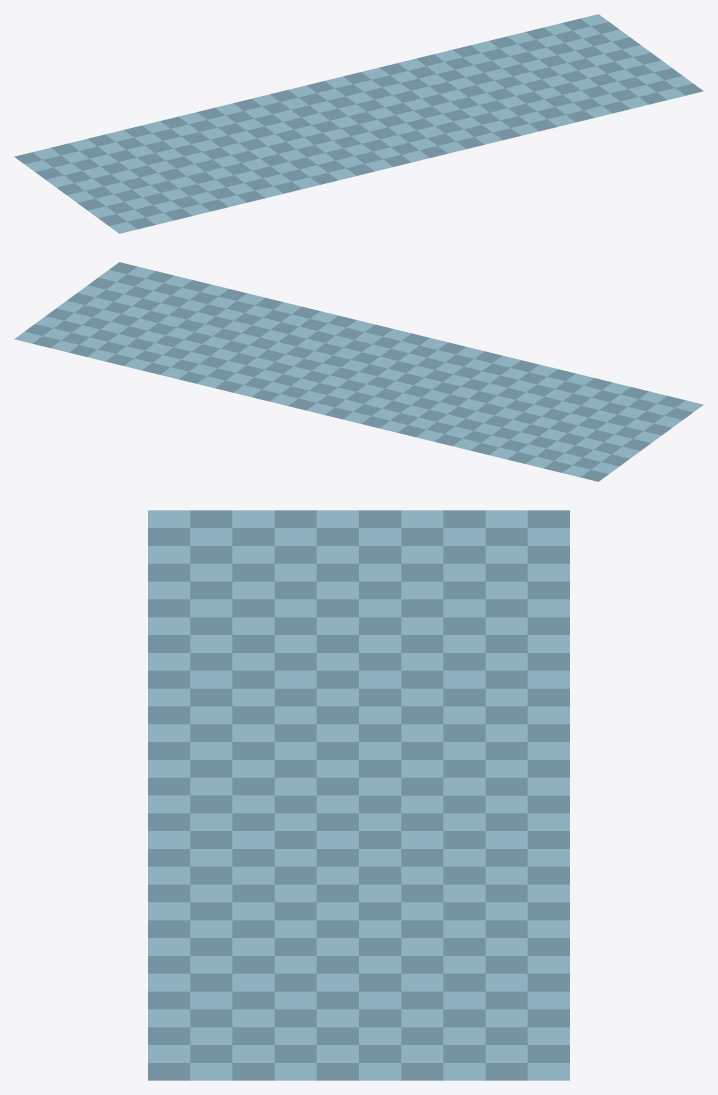
File: floor.fbx
3 views of the same model, one above another, from view 1: azimuth 30°, elevation 25°; view 2: azimuth 150°, elevation 25°; view 3: azimuth 270°, elevation 25° (orthographic). The views are drawn at different scales.
Parts seen in each view (by area): view 1: floor; view 2: floor; view 3: floor.
Boxes of the visible parts, x1,y1,x2,y2 form: floor: (14, 14, 703, 233); floor: (14, 262, 703, 481); floor: (148, 510, 569, 1080).
Size of the model in its own units: 3200 by 0.000163 by 1000.
